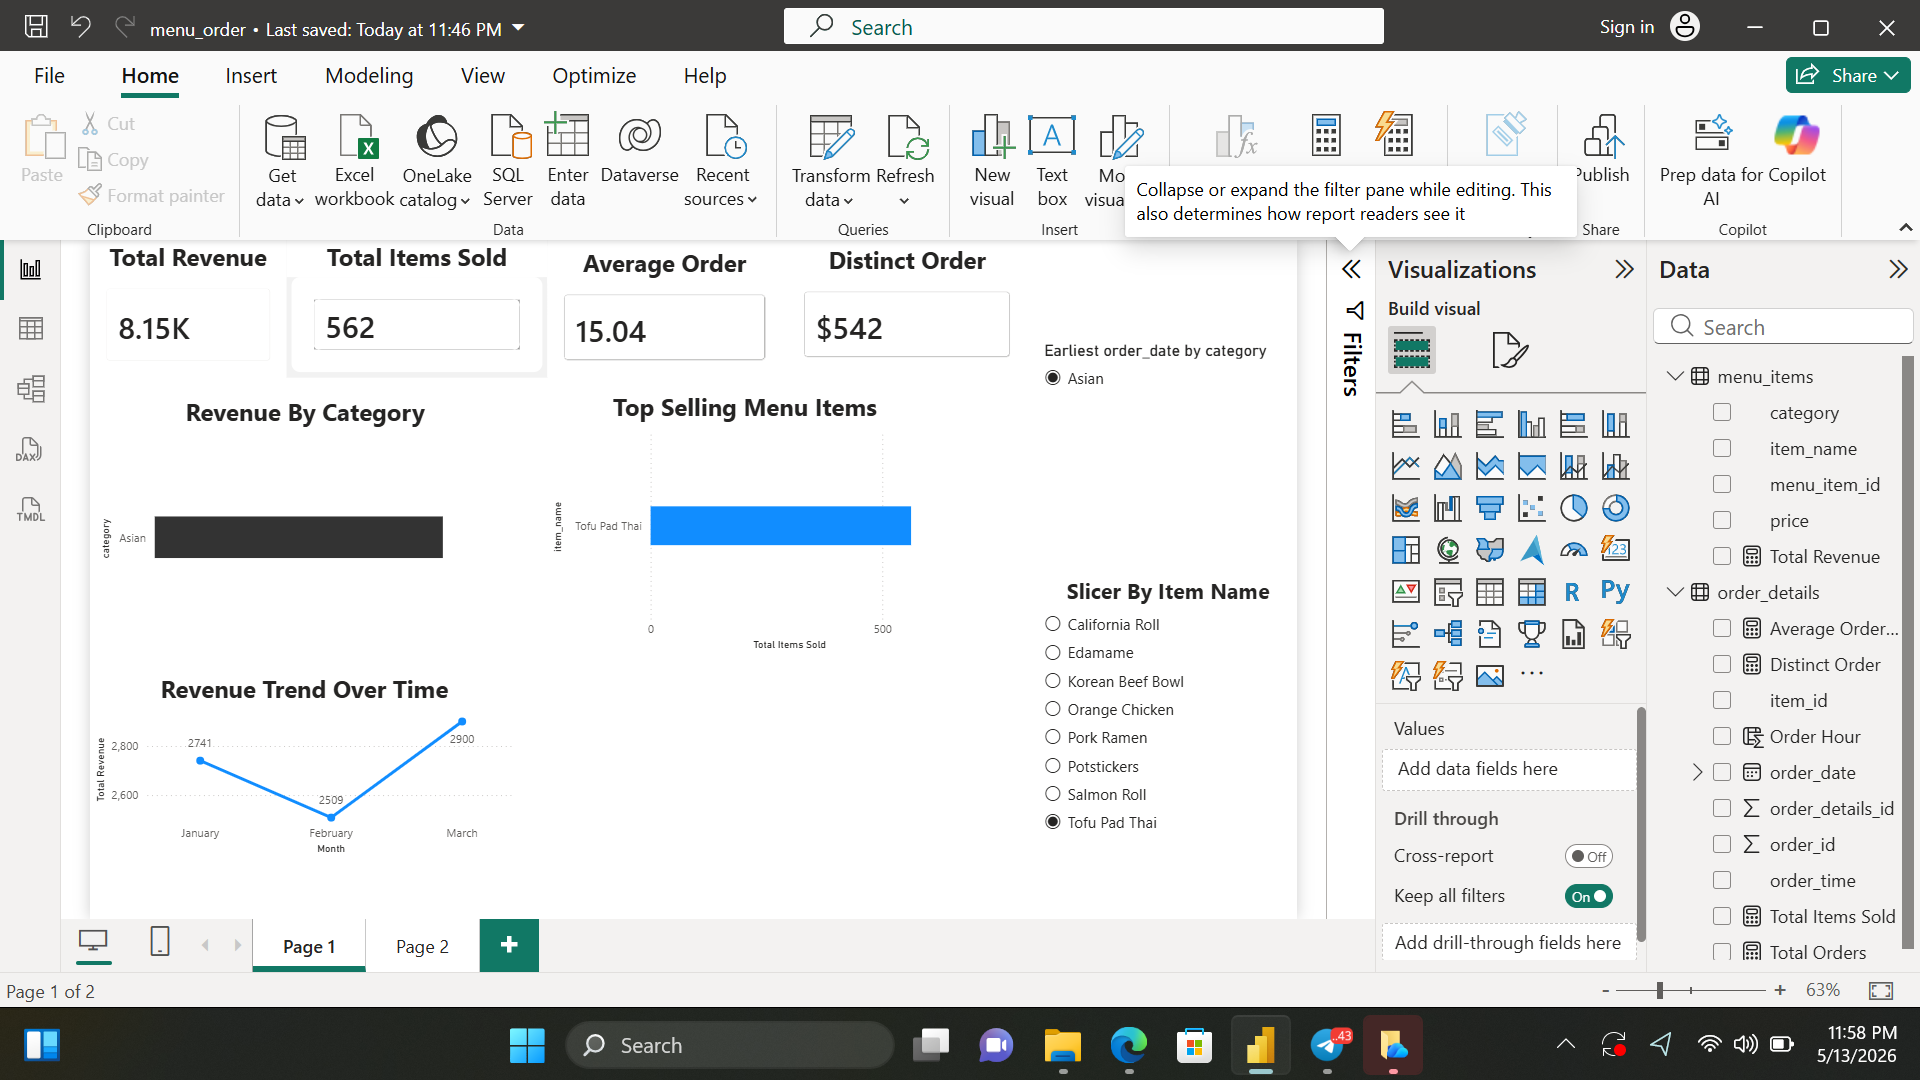

This screenshot's page, from the dashboard's own definition file:
{"tool":"powerbi","page":{"name":"Page 1","canvas":[1280,720],"ordinal":0},"visuals":[{"type":"cardVisual","title":"Total Revenue","fields":{"Data":["menu_items.Total Revenue"]},"box":[0,0,208.5,145.9],"z":0},{"type":"cardVisual","title":"Total Items  Sold","fields":{"Data":["order_details.Total Items Sold"]},"box":[208.5,0,276.7,145.9],"z":1000},{"type":"cardVisual","title":"Distinct Order","fields":{"Data":["order_details.Total Orders"]},"box":[739.2,3.8,254,138.4],"z":2000},{"type":"cardVisual","title":"Average Order","fields":{"Data":["order_details.Average Order Value"]},"box":[485.2,5.7,248.3,138.4],"z":3000},{"type":"clusteredBarChart","title":"Revenue By Category","fields":{"Y":["menu_items.Total Revenue"],"Category":["menu_items.category"]},"box":[0,159.2,454.9,282.4],"z":4000},{"type":"barChart","title":"Top Selling Menu Items","fields":{"Y":["order_details.Total Items Sold"],"Category":["menu_items.item_name"]},"box":[485.2,159.2,418.9,280.5],"z":5000},{"type":"lineChart","title":"Revenue Trend Over Time","fields":{"Category":["order_details.order_date.Variation.Date Hierarchy.Month"],"Y":["menu_items.Total Revenue"]},"box":[0,458.7,454.9,197.1],"z":6000},{"type":"listSlicer","fields":{"Values":["menu_items.category"]},"box":[1006.4,106.1,272.9,225.5],"z":6001},{"type":"listSlicer","title":"Slicer By Item Name","fields":{"Values":["menu_items.item_name"]},"box":[1006.4,356.3,272.9,363.9],"z":6002}]}

Visuals, with their boxes on the page's 1280x720 design canvas (x1, y1, x2, y2). These are canvas units, not pixel positions in the 1920x1080 screenshot, which may show the page scaled, cropped or inside an application window:
"Total Revenue" cardVisual: l=0, t=0, r=208, b=146
"Total Items  Sold" cardVisual: l=208, t=0, r=485, b=146
"Distinct Order" cardVisual: l=739, t=4, r=993, b=142
"Average Order" cardVisual: l=485, t=6, r=734, b=144
"Revenue By Category" clusteredBarChart: l=0, t=159, r=455, b=442
"Top Selling Menu Items" barChart: l=485, t=159, r=904, b=440
"Revenue Trend Over Time" lineChart: l=0, t=459, r=455, b=656
listSlicer - menu_items.category: l=1006, t=106, r=1279, b=332
"Slicer By Item Name" listSlicer: l=1006, t=356, r=1279, b=720
